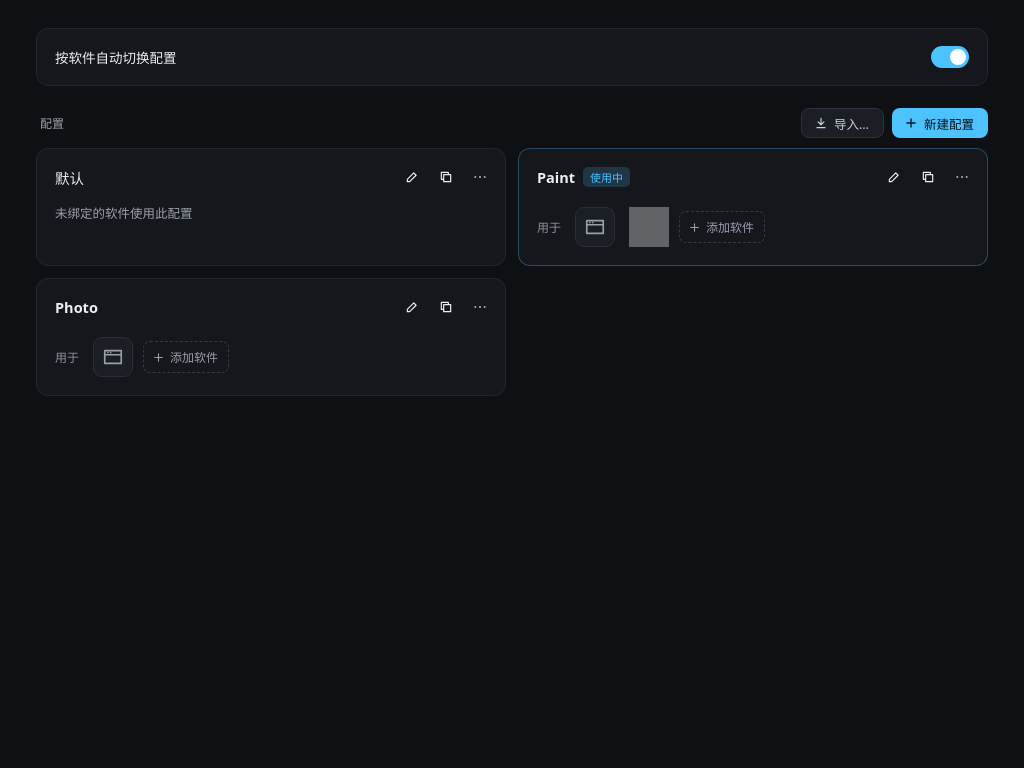
Test: profile cards › shows the save state briefly
Click the switch named "按软件自动切换配置": (950, 57) [931,46,969,68]
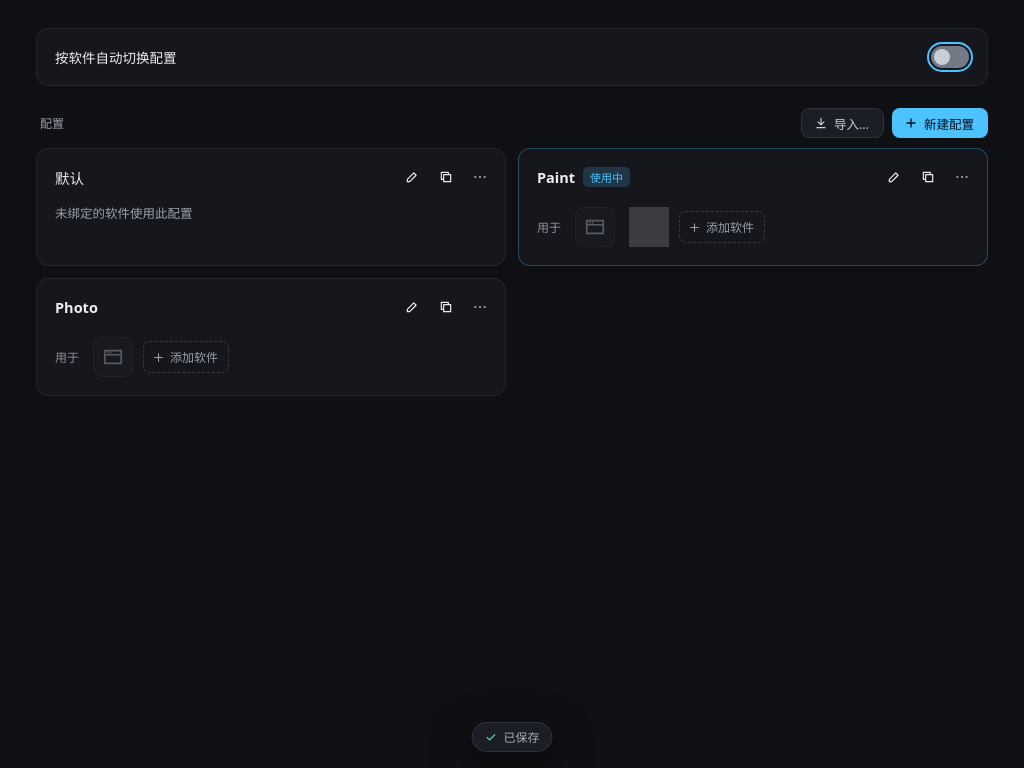
Expected: the message "已保存" is shown, [472,722,552,752]
